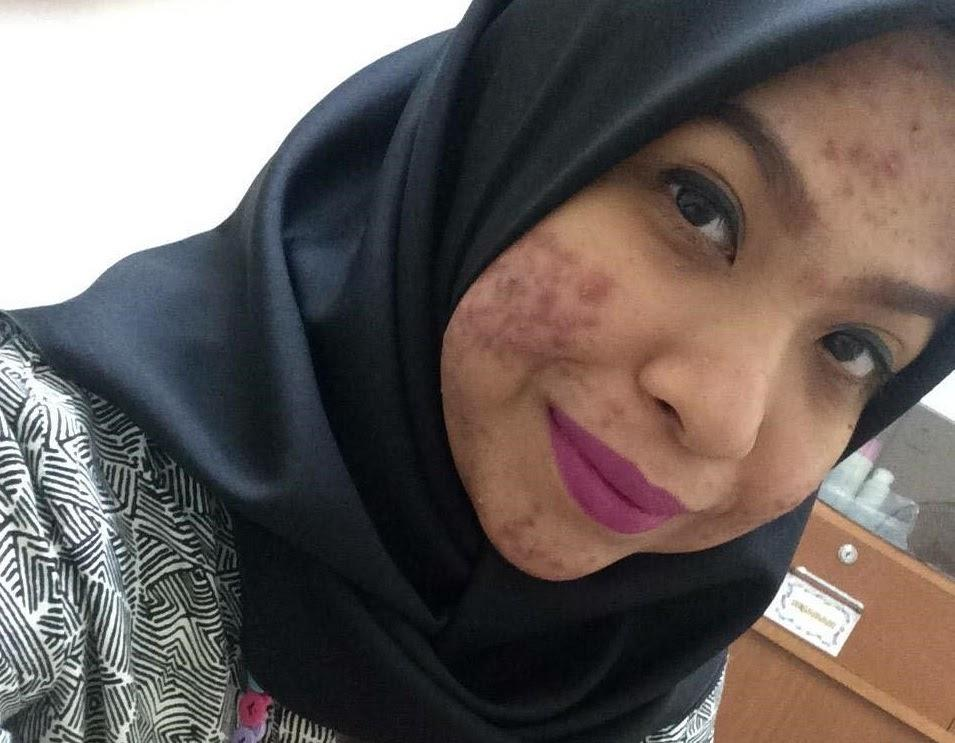Acne: (796, 23, 954, 263), (444, 209, 626, 410), (501, 494, 597, 584), (444, 410, 498, 508), (764, 489, 803, 519)
